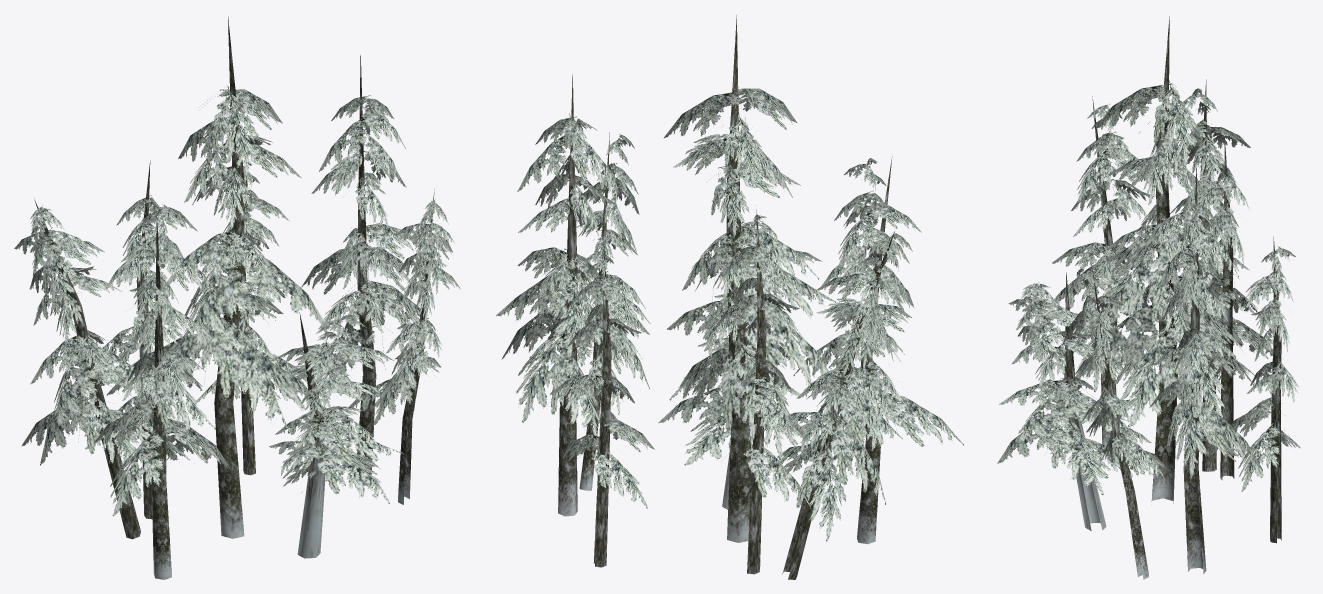
The model's file is S_Tree_White016_1.FBX.
3 renders of one model, left to right at view 1: azimuth 30°, elevation 25°; view 2: azimuth 150°, elevation 25°; view 3: azimuth 270°, elevation 25°, orthographic. The views are drawn at different scales.
Parts seen in each view (by area): view 1: S_Tree_White016_1; view 2: S_Tree_White016_1; view 3: S_Tree_White016_1.
Boxes of the visible parts, x1=… form: S_Tree_White016_1: x1=14, y1=16, x2=460, y2=579; S_Tree_White016_1: x1=496, y1=15, x2=963, y2=579; S_Tree_White016_1: x1=997, y1=16, x2=1300, y2=579.
Bounding box in the file's own units: 1205 × 855 × 1477.
